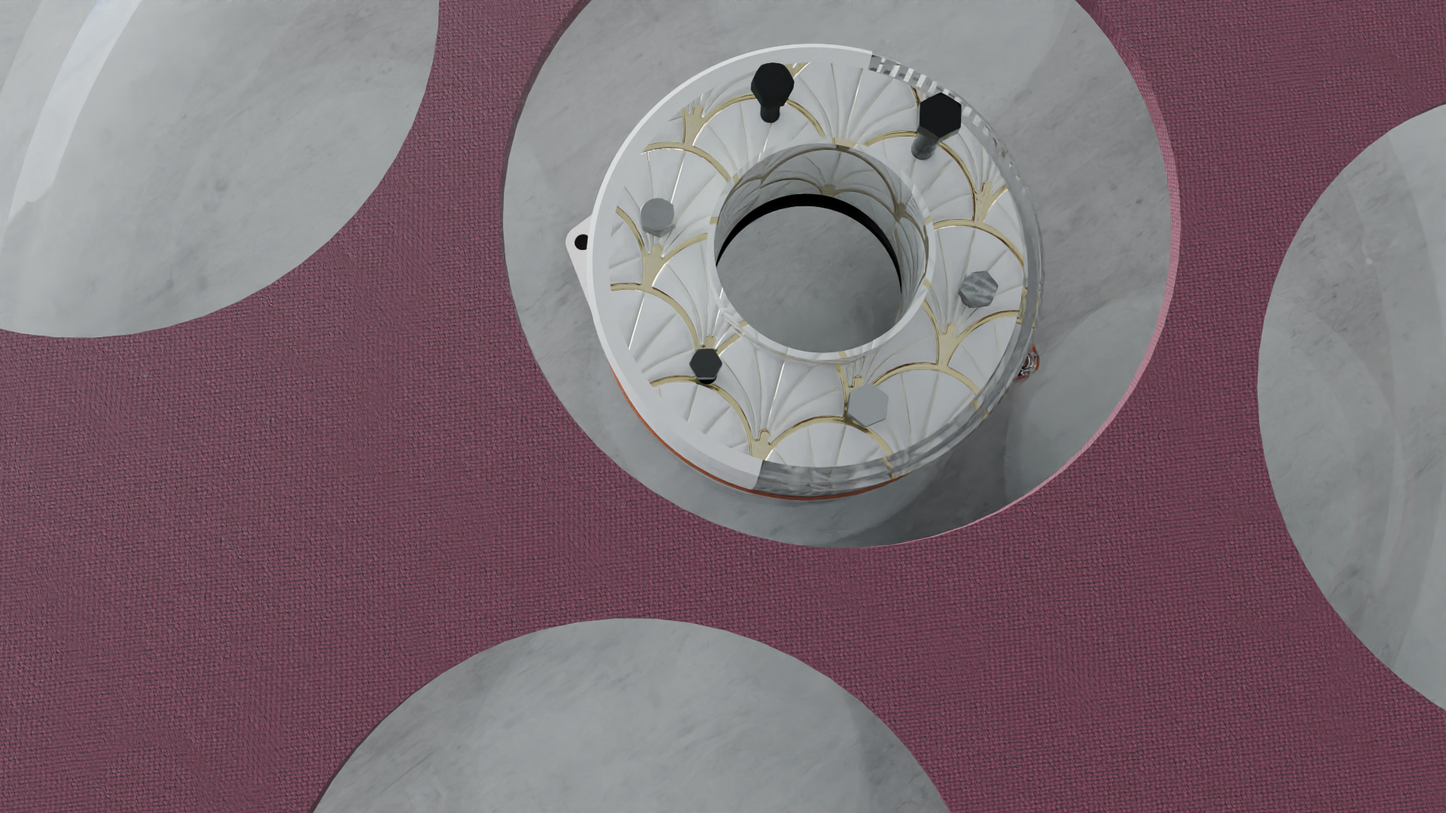bolt: (919, 92, 962, 139), (848, 383, 889, 426), (751, 62, 795, 100), (960, 271, 999, 306), (640, 197, 676, 234), (689, 349, 722, 378)
